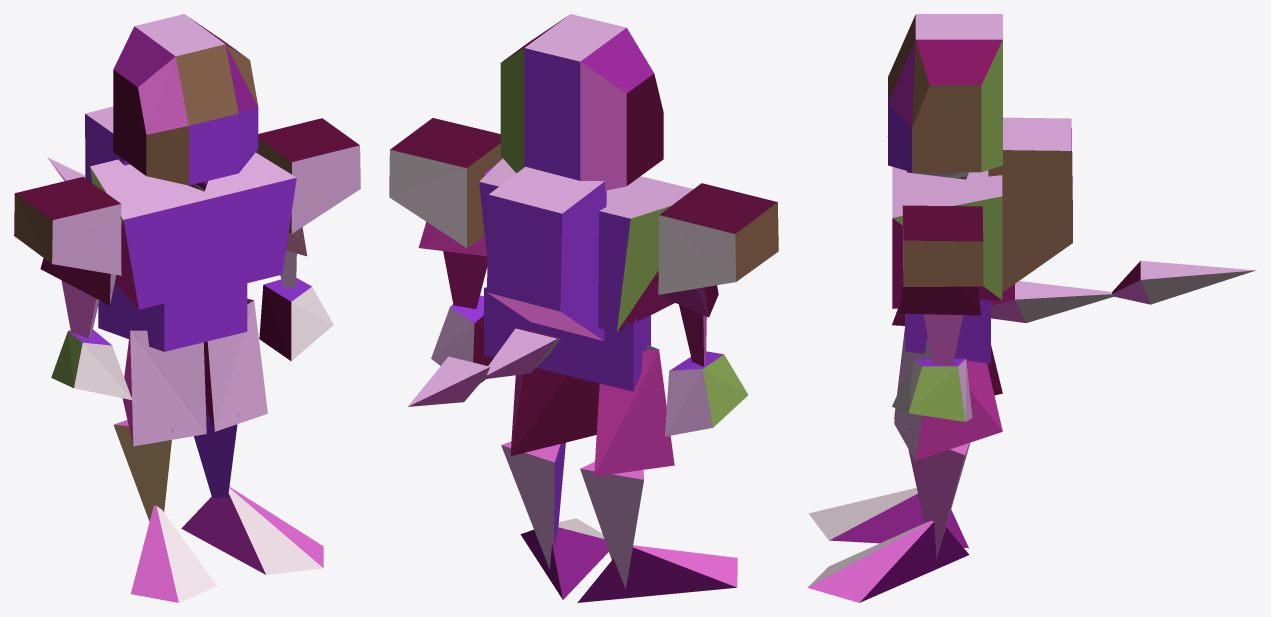
Rendered from fox.obj.
3 views of the same model, side by side, from view 1: azimuth 30°, elevation 25°; view 2: azimuth 150°, elevation 25°; view 3: azimuth 270°, elevation 25° (orthographic). The views are drawn at different scales.
Parts seen in each view (by area): view 1: Nemu_60999451_0_017, Nemu_60999451_0_022, Nemu_60999451_0_023, Nemu_60999451_0_029, Nemu_60999451_0_018, Nemu_60999451_0_028, Nemu_60999451_0_016, Nemu_60999451_0_026, Nemu_60999451_0_031, Nemu_60999451_0_020, Nemu_60999451_0_025, Nemu_60999451_0_030 (+3 smaller); view 2: Nemu_60999451_0_017, Nemu_60999451_0_022, Nemu_60999451_0_023, Nemu_60999451_0_018, Nemu_60999451_0_029, Nemu_60999451_0_016, Nemu_60999451_0_026, Nemu_60999451_0_031, Nemu_60999451_0_025, Nemu_60999451_0_027, Nemu_60999451_0_030, Nemu_60999451_0_028 (+5 smaller); view 3: Nemu_60999451_0_022, Nemu_60999451_0_017, Nemu_60999451_0_018, Nemu_60999451_0_028, Nemu_60999451_0_026, Nemu_60999451_0_031, Nemu_60999451_0_020, Nemu_60999451_0_033, Nemu_60999451_0_027, Nemu_60999451_0_032, Nemu_60999451_0_016, Nemu_60999451_0_019.
Part boxes in pixels (x1=…): Nemu_60999451_0_017: x1=85, y1=106, x2=296, y2=309; Nemu_60999451_0_022: x1=113, y1=14, x2=258, y2=185; Nemu_60999451_0_023: x1=14, y1=177, x2=121, y2=305; Nemu_60999451_0_029: x1=122, y1=324, x2=206, y2=446; Nemu_60999451_0_018: x1=256, y1=118, x2=360, y2=256; Nemu_60999451_0_028: x1=181, y1=487, x2=323, y2=574; Nemu_60999451_0_016: x1=98, y1=282, x2=247, y2=351; Nemu_60999451_0_026: x1=203, y1=299, x2=267, y2=431; Nemu_60999451_0_031: x1=130, y1=505, x2=217, y2=602; Nemu_60999451_0_020: x1=259, y1=278, x2=333, y2=361; Nemu_60999451_0_025: x1=51, y1=329, x2=132, y2=400; Nemu_60999451_0_030: x1=113, y1=420, x2=172, y2=521; Nemu_60999451_0_017: x1=479, y1=158, x2=693, y2=340; Nemu_60999451_0_022: x1=500, y1=14, x2=663, y2=190; Nemu_60999451_0_023: x1=658, y1=183, x2=778, y2=317; Nemu_60999451_0_018: x1=389, y1=118, x2=502, y2=256; Nemu_60999451_0_029: x1=594, y1=344, x2=674, y2=476; Nemu_60999451_0_016: x1=484, y1=287, x2=650, y2=391; Nemu_60999451_0_026: x1=510, y1=368, x2=599, y2=455; Nemu_60999451_0_031: x1=577, y1=545, x2=737, y2=602; Nemu_60999451_0_025: x1=665, y1=351, x2=748, y2=436; Nemu_60999451_0_027: x1=501, y1=441, x2=565, y2=568; Nemu_60999451_0_030: x1=580, y1=462, x2=643, y2=588; Nemu_60999451_0_028: x1=520, y1=518, x2=608, y2=599; Nemu_60999451_0_022: x1=888, y1=14, x2=1002, y2=172; Nemu_60999451_0_017: x1=892, y1=117, x2=1072, y2=308; Nemu_60999451_0_018: x1=898, y1=205, x2=983, y2=315; Nemu_60999451_0_028: x1=807, y1=521, x2=969, y2=602; Nemu_60999451_0_026: x1=894, y1=332, x2=1002, y2=460; Nemu_60999451_0_031: x1=808, y1=488, x2=968, y2=548; Nemu_60999451_0_020: x1=892, y1=358, x2=972, y2=421; Nemu_60999451_0_033: x1=1112, y1=260, x2=1255, y2=304; Nemu_60999451_0_027: x1=904, y1=431, x2=970, y2=559; Nemu_60999451_0_032: x1=991, y1=281, x2=1113, y2=322; Nemu_60999451_0_016: x1=905, y1=299, x2=990, y2=363; Nemu_60999451_0_019: x1=923, y1=314, x2=962, y2=365.
Bounding box in the file's own units: 0.2975 × 0.4606 × 0.3559.
